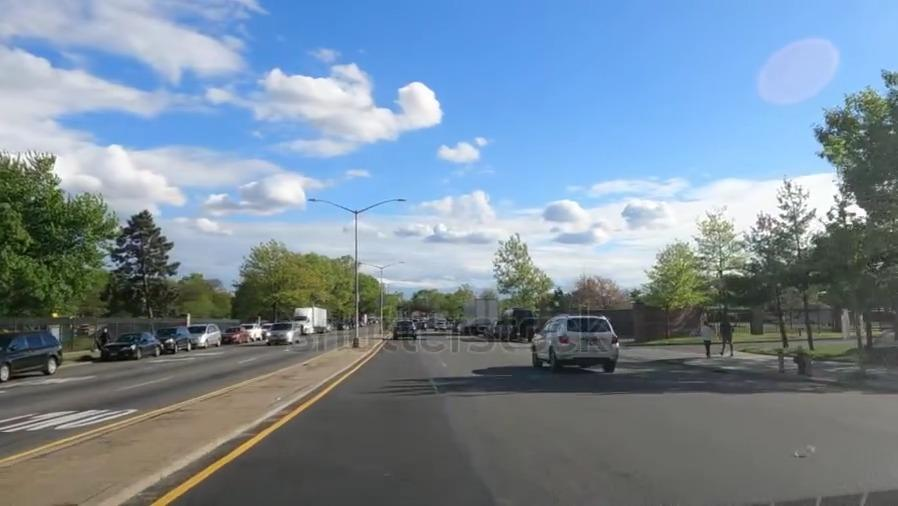car: (531, 315, 620, 371), (2, 319, 65, 383), (105, 334, 157, 356), (185, 323, 219, 344), (160, 327, 188, 352), (265, 323, 295, 343), (393, 317, 419, 338), (225, 330, 244, 342), (245, 323, 259, 339)
person: (719, 315, 741, 355), (697, 315, 714, 358), (95, 322, 107, 345)
rubbish: (793, 444, 821, 458)
truck: (294, 304, 331, 335)
